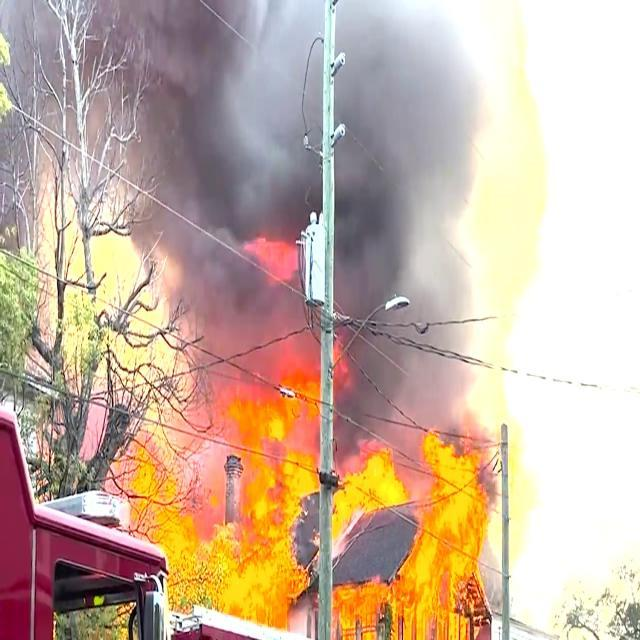Fire: (116, 363, 312, 627), (410, 420, 494, 640), (334, 430, 397, 534), (342, 587, 386, 640)
Smoke: (5, 0, 527, 337)
